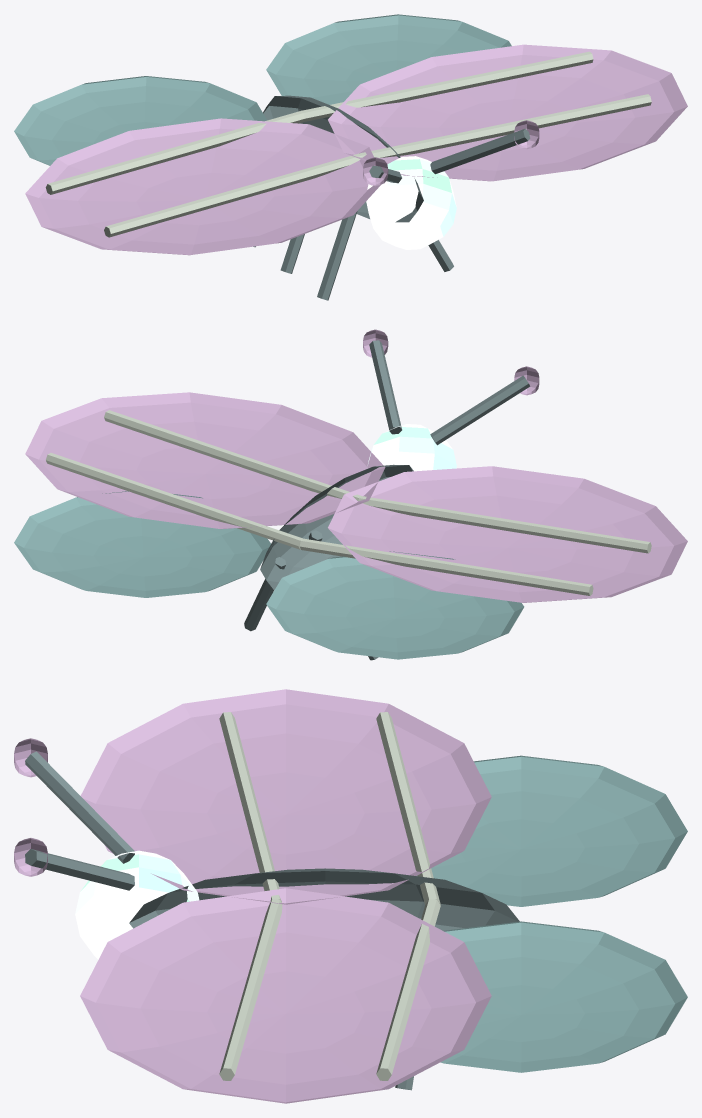
Rendered from runestone-conservatory-moon-garden-moth__107.glb.
3 renders of one model, top to bottom at view 1: azimuth 30°, elevation 25°; view 2: azimuth 150°, elevation 25°; view 3: azimuth 270°, elevation 25°, orthographic. The views are drawn at different scales.
Visible parts, largest first — view 1: runestone-conservatory-moon-moth; view 2: runestone-conservatory-moon-moth; view 3: runestone-conservatory-moon-moth.
Part boxes in pixels (bbox=[...]): runestone-conservatory-moon-moth: bbox=[14, 14, 687, 300]; runestone-conservatory-moon-moth: bbox=[14, 329, 687, 660]; runestone-conservatory-moon-moth: bbox=[14, 689, 687, 1103].
Bounding box in the file's own units: 1 × 0.2936 × 0.6873.
